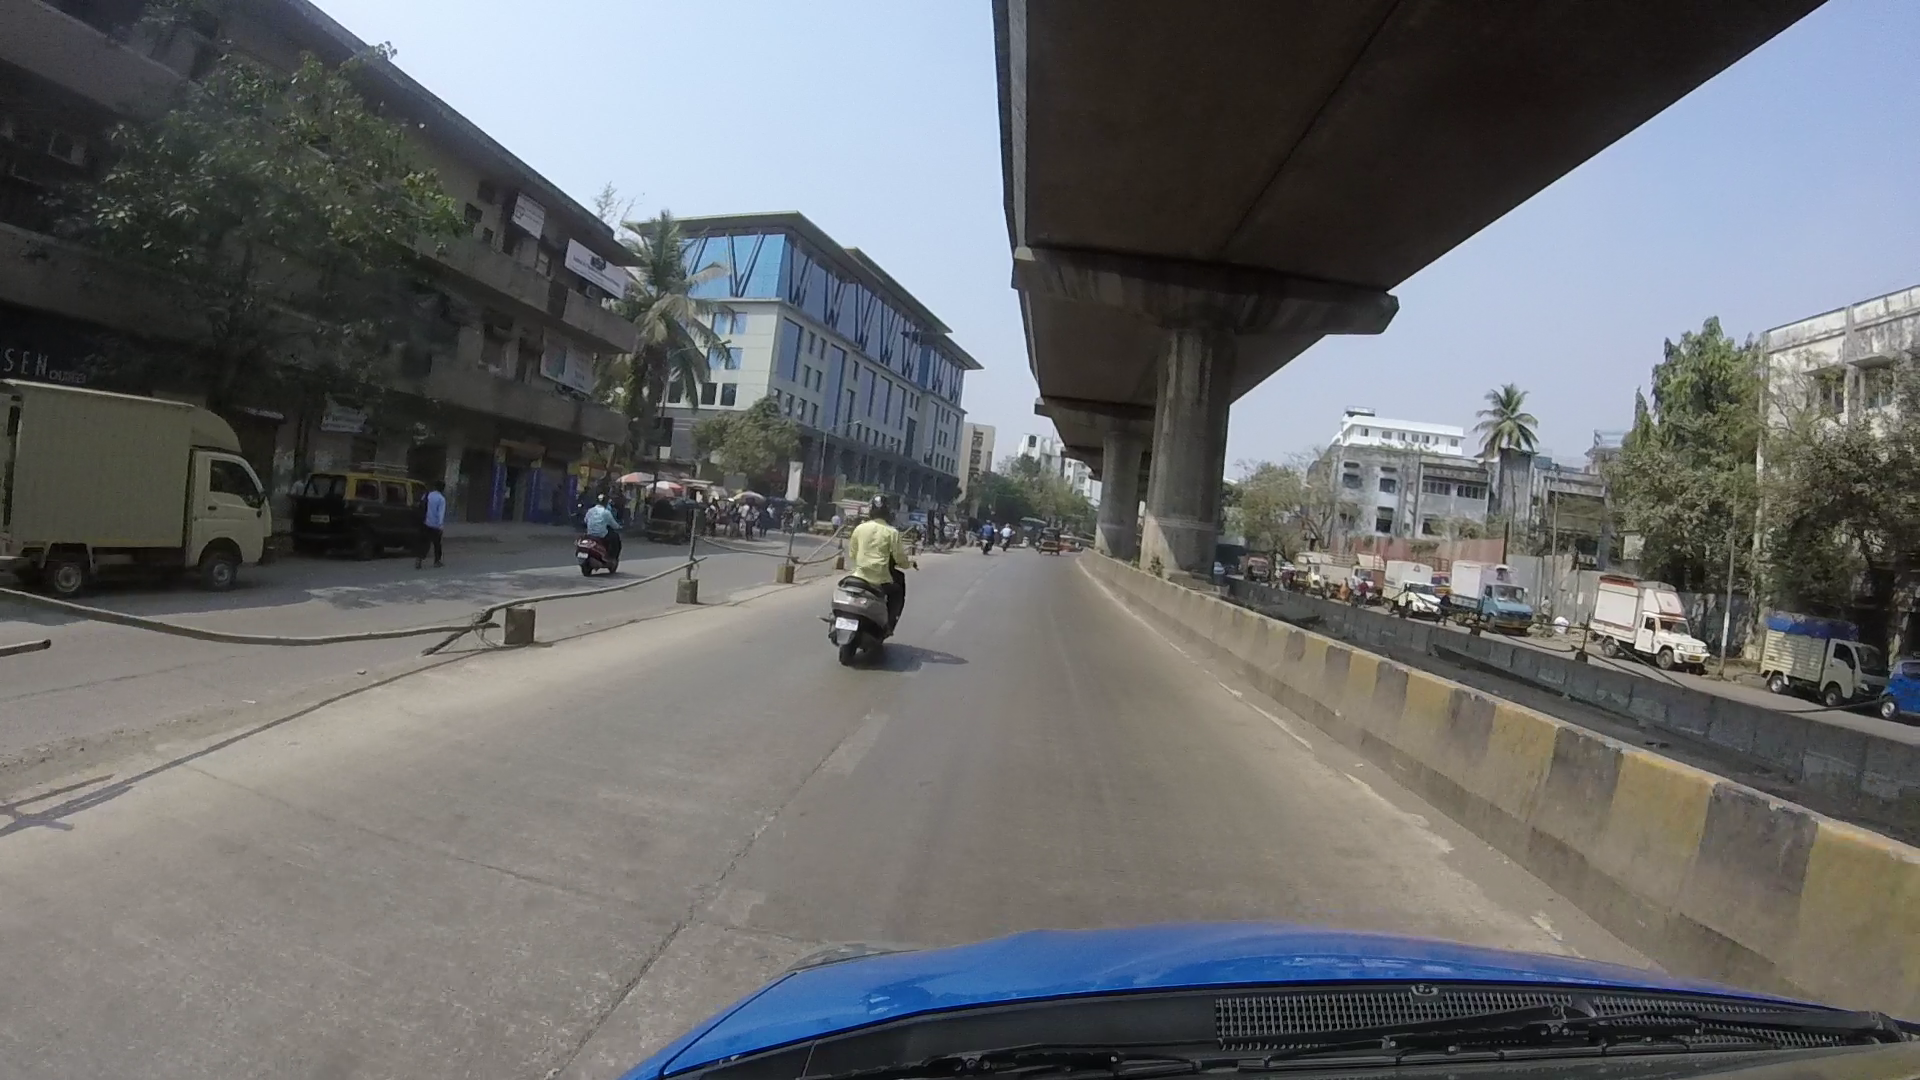bike/scooter: (808, 501, 913, 659)
